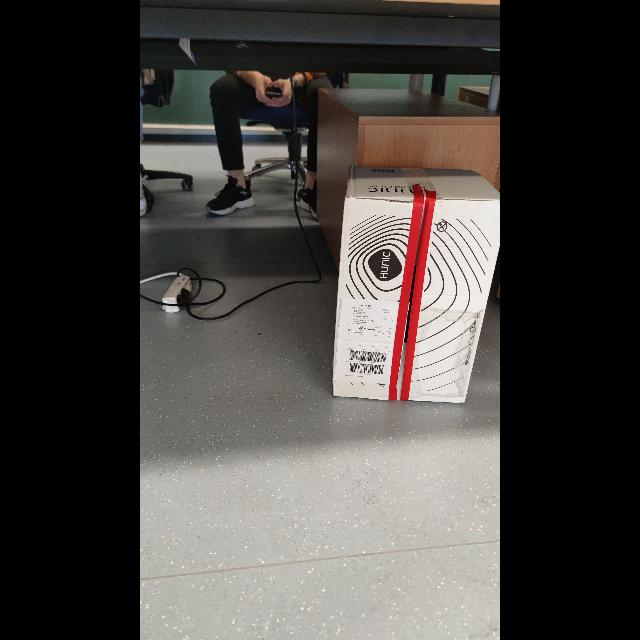cardboard_box: (330, 142, 500, 444)
